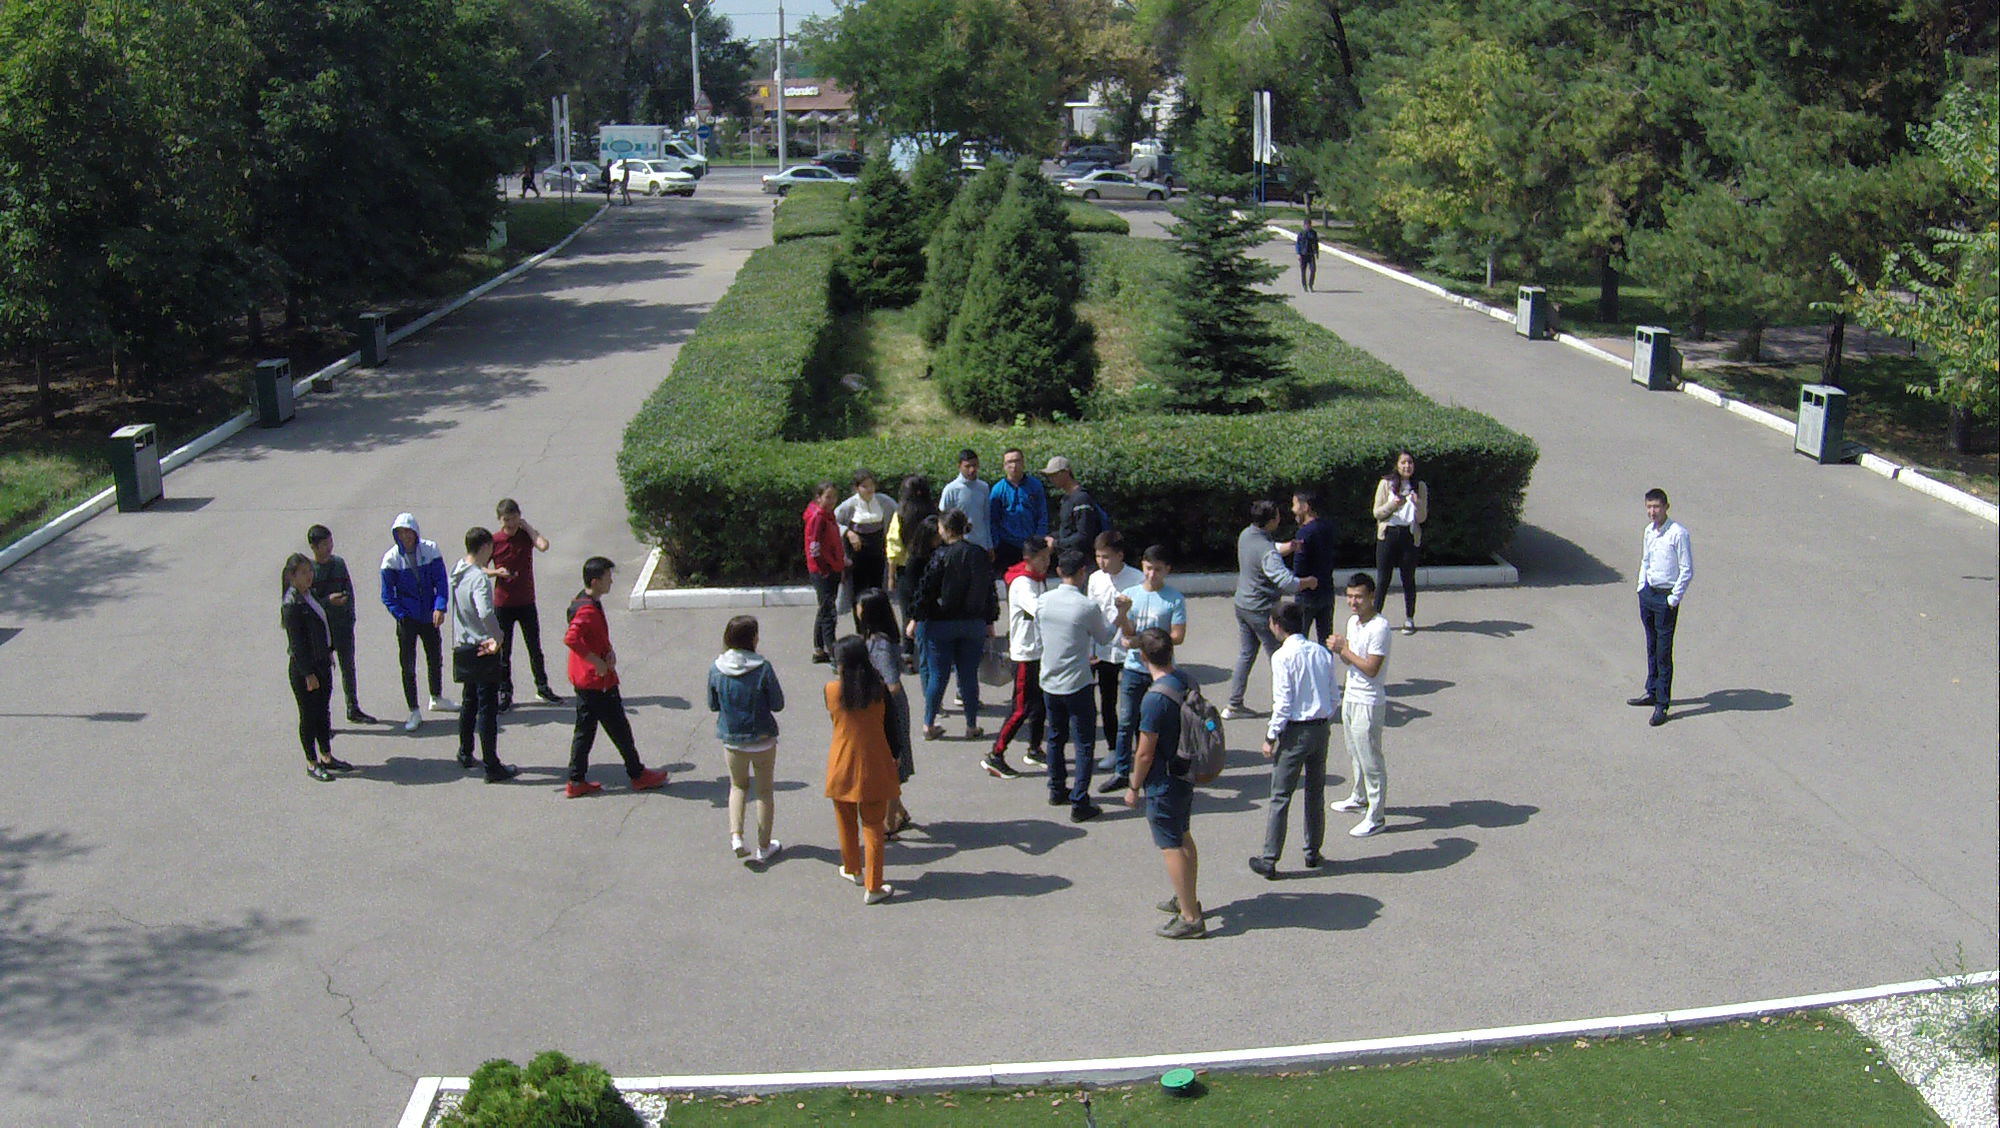person: (555, 547, 670, 808), (1124, 626, 1214, 947), (814, 639, 916, 920), (1239, 601, 1337, 880), (1037, 560, 1130, 833), (705, 614, 789, 878), (1616, 483, 1701, 733), (453, 528, 530, 797), (270, 555, 345, 799), (1335, 578, 1397, 851), (1232, 512, 1305, 739), (376, 522, 447, 737), (303, 524, 376, 720), (491, 495, 553, 689), (1378, 443, 1439, 633), (1001, 572, 1051, 799), (785, 495, 839, 660), (853, 603, 903, 743), (1280, 489, 1339, 605), (1135, 553, 1193, 660), (985, 449, 1043, 549), (1049, 455, 1097, 549), (849, 476, 893, 566), (943, 453, 991, 539), (1095, 533, 1137, 603), (1295, 214, 1326, 297)
